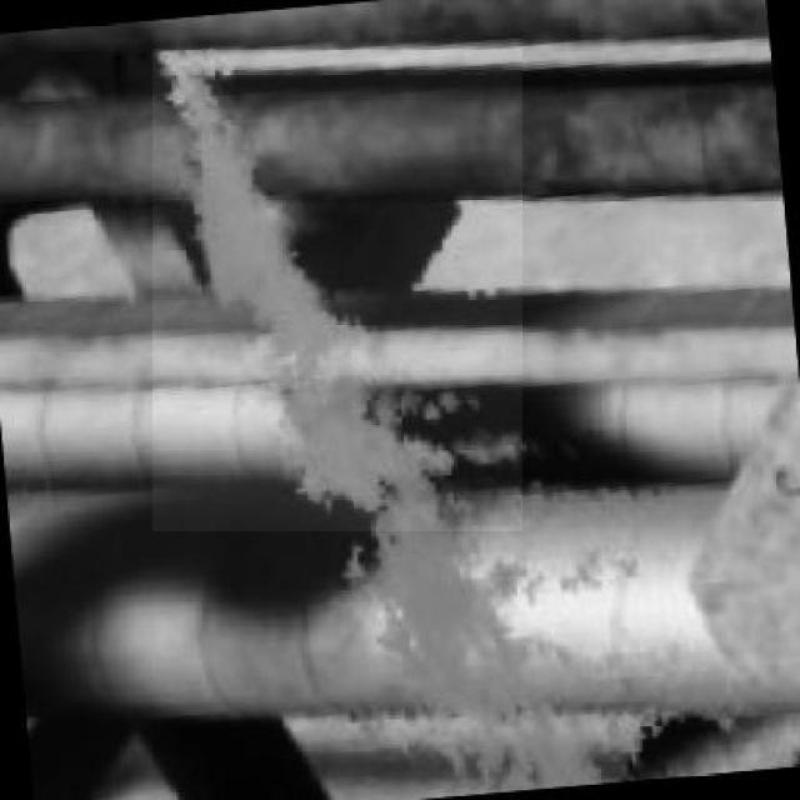Fracture: (219, 306, 408, 506)
